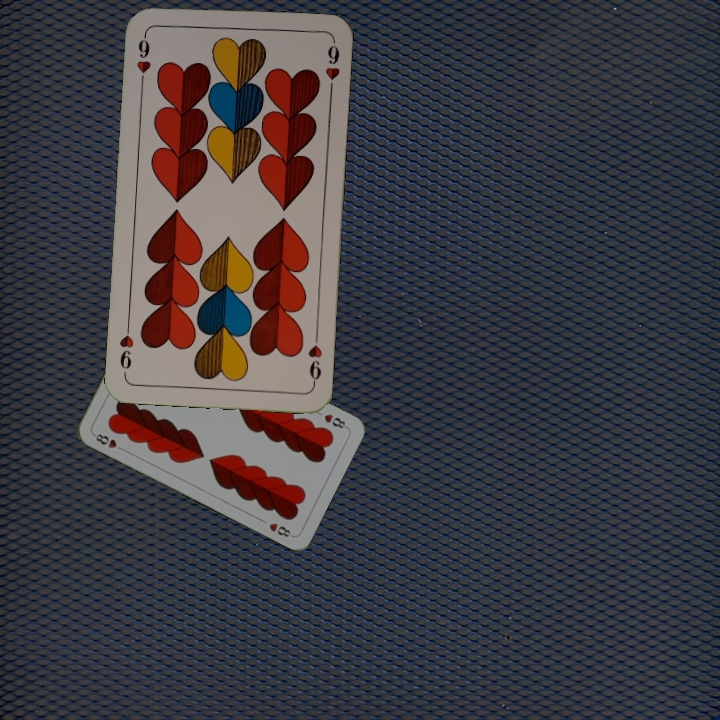H8: (90, 430, 127, 454), (320, 410, 350, 431)
H9: (133, 28, 154, 87), (304, 329, 324, 388)
